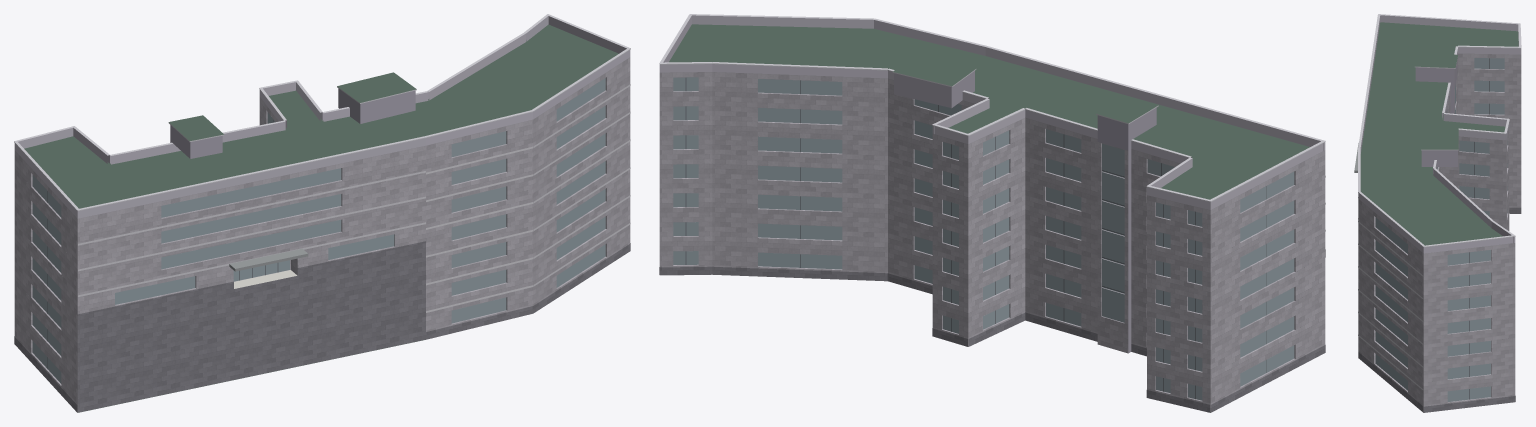
3 renders of one model, left to right at view 1: azimuth 30°, elevation 25°; view 2: azimuth 150°, elevation 25°; view 3: azimuth 270°, elevation 25°, orthographic. The views are drawn at different scales.
Visible parts, largest first — view 1: b143__wall, b143__base, b143__roof, b143__glass, b143__parapet, b143__trim, b143__wall2, b143__canopy; view 2: b143__wall, b143__glass, b143__roof, b143__parapet, b143__base, b143__trim, b143__wall2, b143__frame; view 3: b143__wall, b143__roof, b143__glass, b143__parapet, b143__trim, b143__wall2, b143__base.
Part boxes in pixels (left/top/right/bottom): b143__wall: left=14, top=57, right=630, bottom=412; b143__base: left=14, top=241, right=630, bottom=412; b143__roof: left=24, top=24, right=618, bottom=412; b143__glass: left=32, top=78, right=605, bottom=383; b143__parapet: left=14, top=16, right=630, bottom=218; b143__trim: left=14, top=14, right=630, bottom=312; b143__wall2: left=170, top=88, right=415, bottom=158; b143__canopy: left=229, top=248, right=308, bottom=271; b143__wall: left=659, top=72, right=1325, bottom=412; b143__glass: left=673, top=77, right=1294, bottom=400; b143__roof: left=669, top=24, right=1309, bottom=412; b143__parapet: left=659, top=15, right=1325, bottom=209; b143__base: left=659, top=249, right=1325, bottom=412; b143__trim: left=659, top=14, right=1325, bottom=231; b143__wall2: left=894, top=71, right=1156, bottom=353; b143__frame: left=685, top=78, right=1266, bottom=399; b143__wall: left=1358, top=53, right=1521, bottom=412; b143__roof: left=1360, top=22, right=1518, bottom=245; b143__glass: left=1375, top=58, right=1507, bottom=401; b143__parapet: left=1358, top=15, right=1521, bottom=253; b143__trim: left=1358, top=14, right=1521, bottom=390; b143__wall2: left=1415, top=61, right=1457, bottom=166; b143__base: left=1358, top=207, right=1521, bottom=412.
Size of the model in its own units: 79.03 by 28.73 by 23.99.
Materials: 11 (2 with a texture image).
